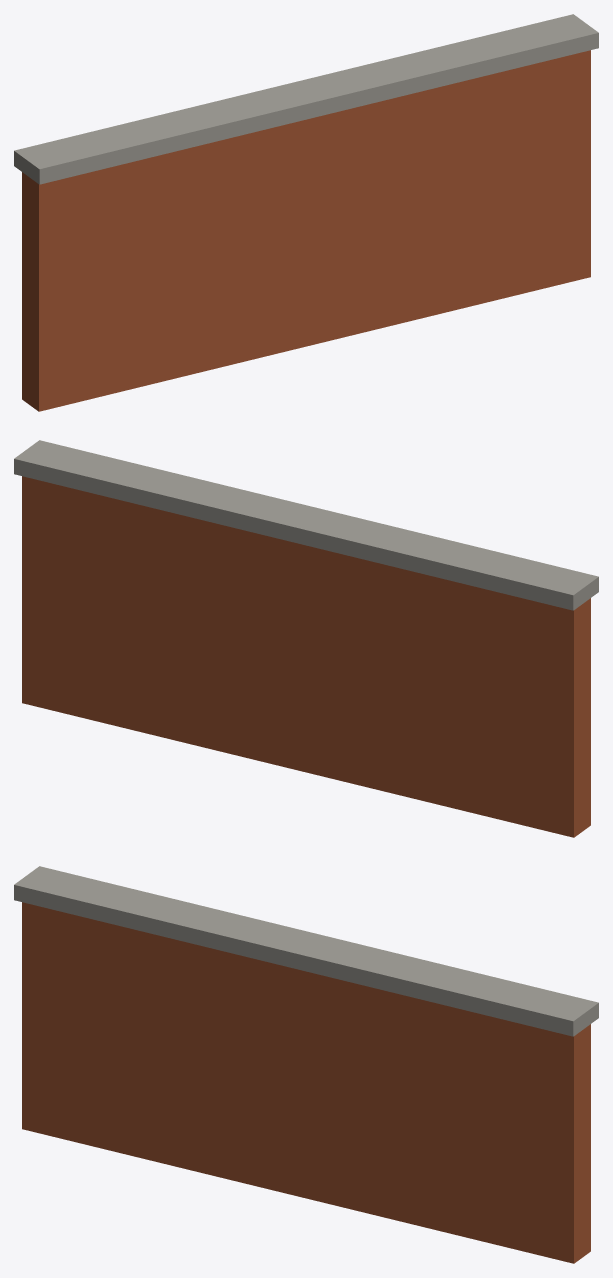
Rendered from muro_baixo.glb.
3 views of the same model, one above another, from view 1: azimuth 30°, elevation 25°; view 2: azimuth 150°, elevation 25°; view 3: azimuth 330°, elevation 25° (orthographic).
Visible parts, largest first — view 1: muro_baixo; view 2: muro_baixo; view 3: muro_baixo.
Part boxes in pixels (x1,y1,x2,y2): muro_baixo: [14, 14, 598, 411]; muro_baixo: [14, 440, 598, 837]; muro_baixo: [14, 866, 598, 1263].
Size of the model in its own units: 3.04 by 1.28 by 0.24.
